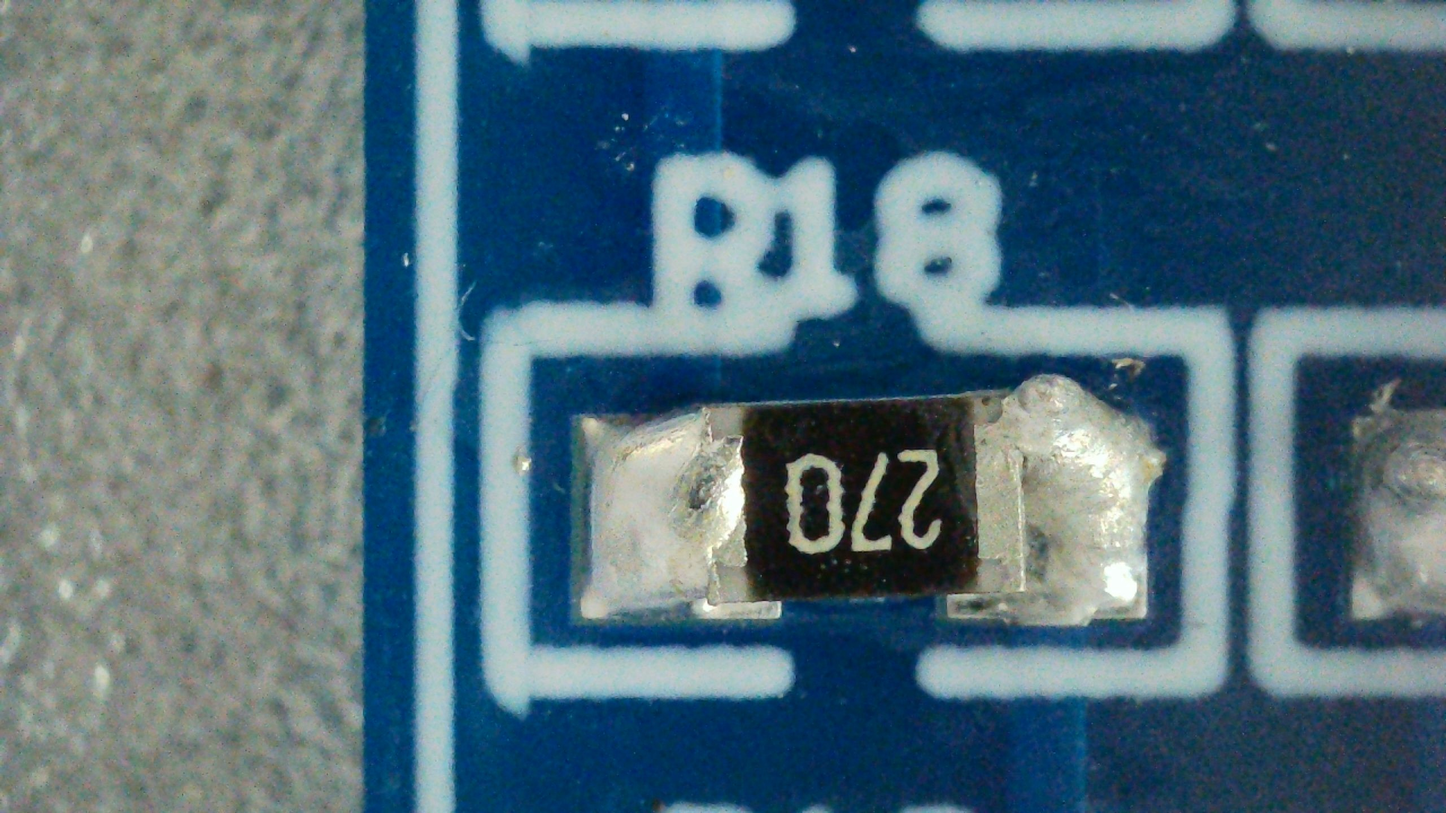NG: (579, 375, 1168, 625)
